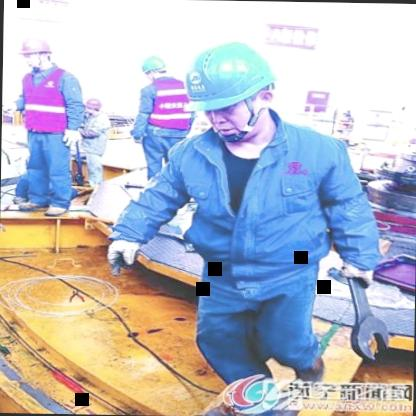helmet: (180, 26, 285, 149), (18, 31, 56, 71), (136, 52, 170, 84), (82, 95, 102, 117)
